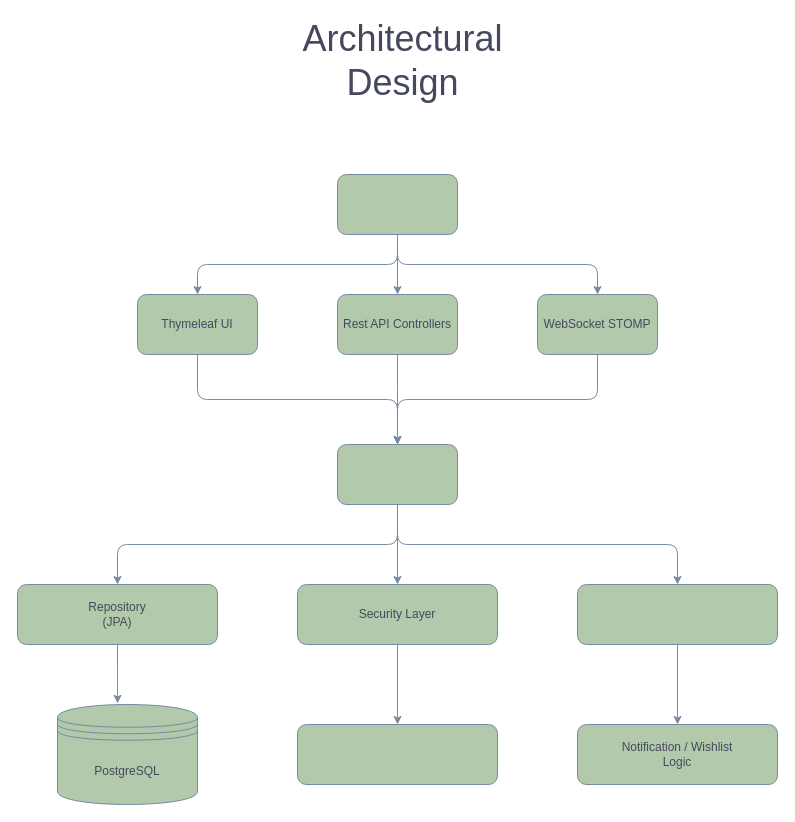
The diagram is 795 pixels wide and 822 high, and some of its shapes have lost their labels. Each missing label, with the centre of its shape:
"Auth (JWT and RPAC)" goes at (x=397, y=754).
"Event/Pattern Components" goes at (x=677, y=614).
"Service Layer" goes at (x=397, y=474).
"Web Browser" goes at (x=397, y=204).
